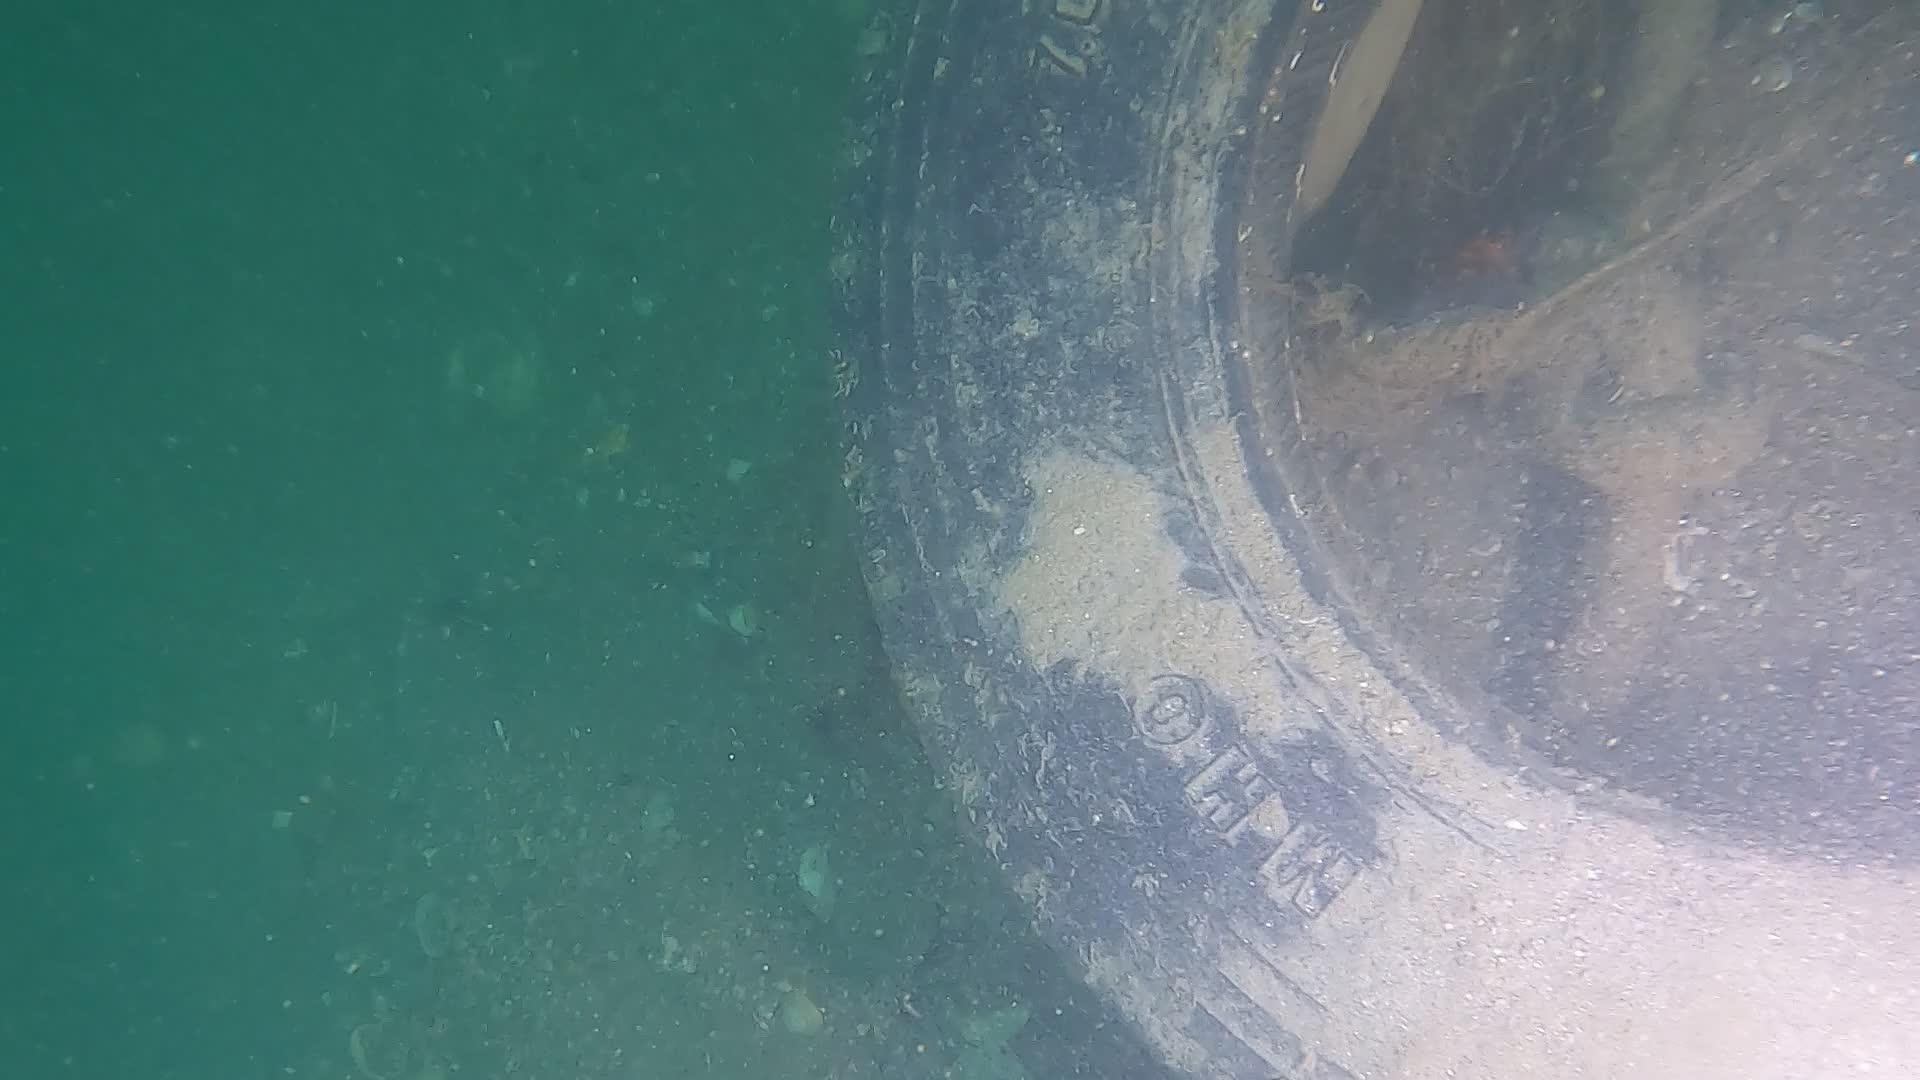tire: (827, 0, 1920, 1080)
